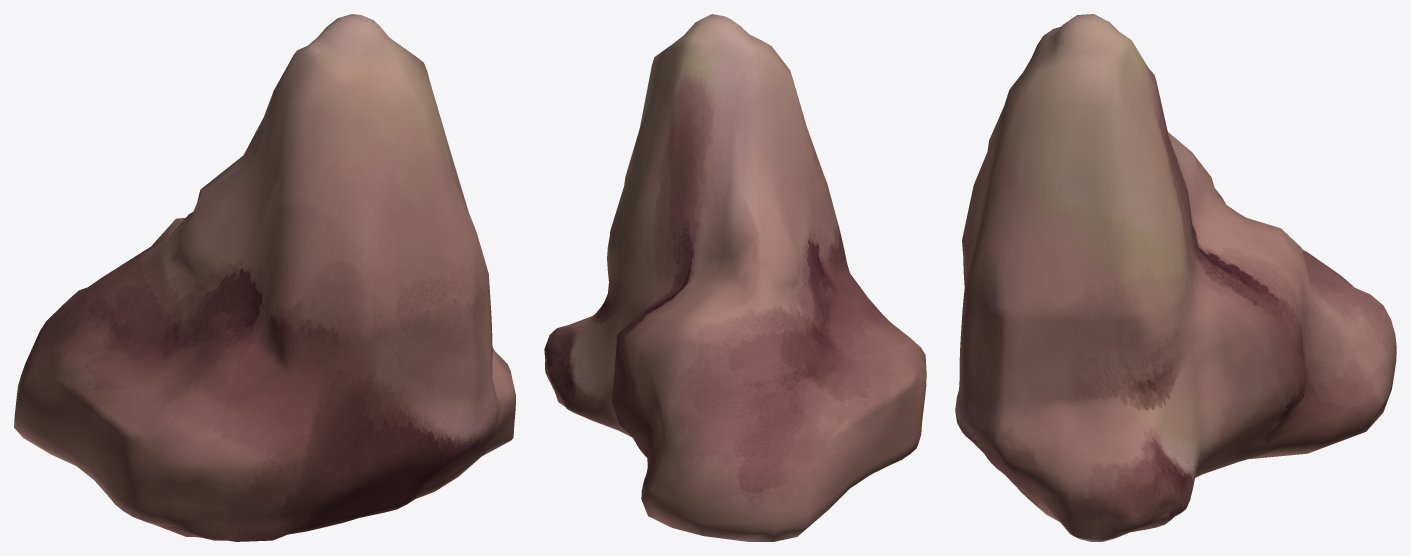
Rendered from rock3.fbx.
The picture shows the model from 3 angles, left to right: view 1: azimuth 30°, elevation 25°; view 2: azimuth 150°, elevation 25°; view 3: azimuth 270°, elevation 25°; orthographic projection. The views are drawn at different scales.
Visible parts, largest first — view 1: pCube3; view 2: pCube3; view 3: pCube3.
Boxes of the visible parts, bbox=[...] form: pCube3: bbox=[14, 14, 515, 541]; pCube3: bbox=[544, 14, 926, 541]; pCube3: bbox=[955, 14, 1396, 541].
Size of the model in its own units: 65.01 by 73.57 by 62.76.
Materials: 1 (1 with a texture image).
